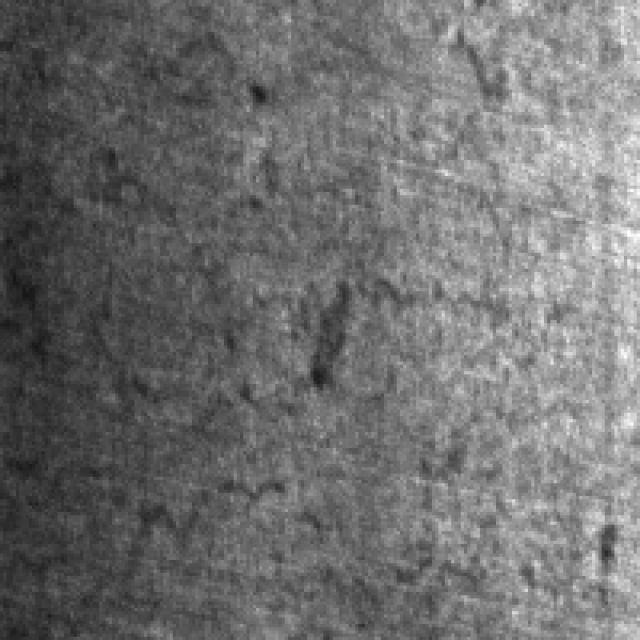crazing: (3, 134, 547, 416), (3, 426, 291, 634)
